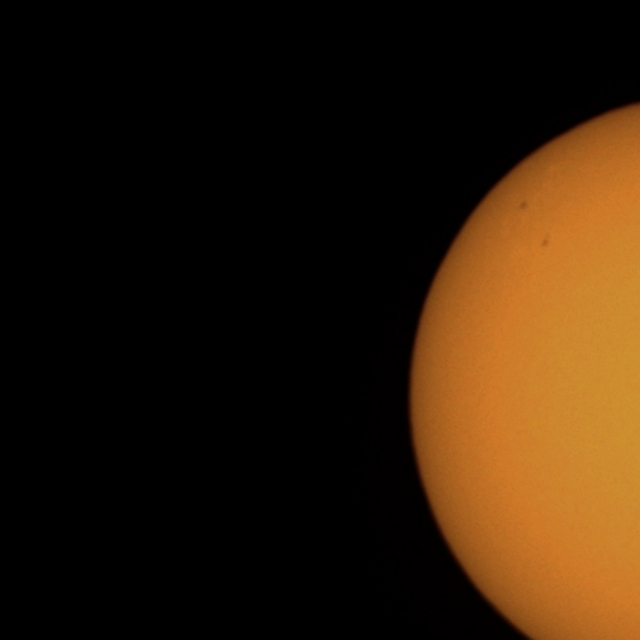sunspot: (538, 234, 552, 251)
